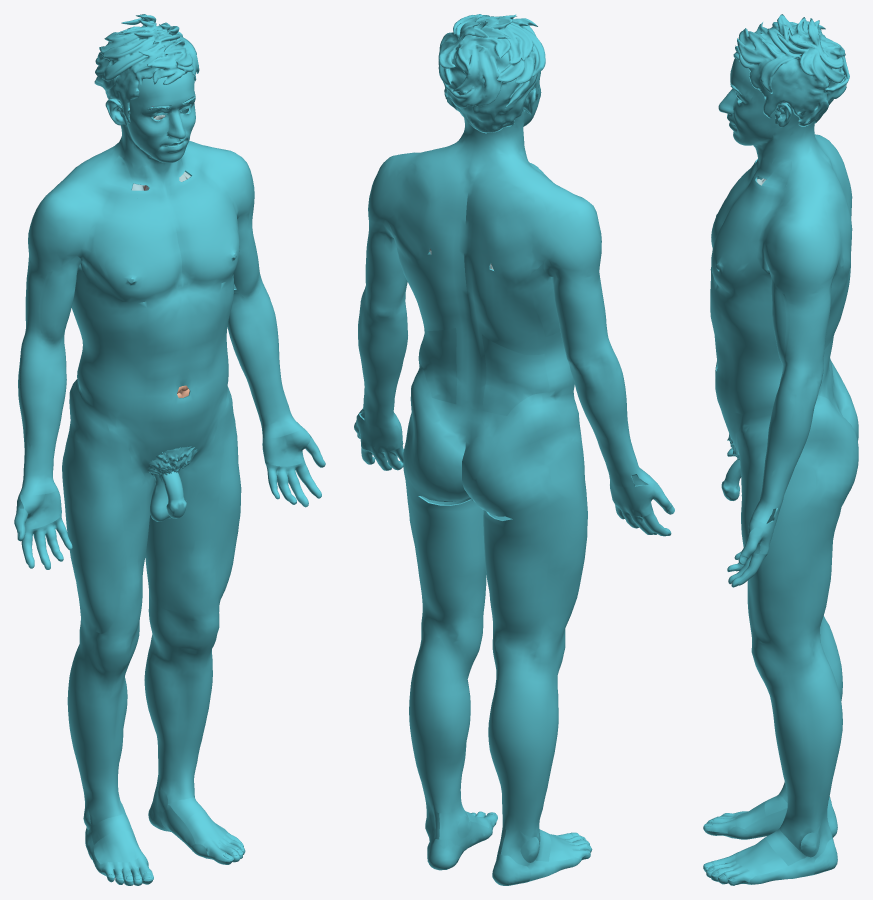
Rendered from z-anatomy-full-body.glb.
3 renders of one model, left to right at view 1: azimuth 30°, elevation 25°; view 2: azimuth 150°, elevation 25°; view 3: azimuth 270°, elevation 25°, orthographic. The views are drawn at different scales.
Parts seen in each view (by area): view 1: body-shell__Anterior region of thigh.r, body-shell__Anterior region of thigh.l, body-shell__Hairs of head, body-shell__Anterior region of leg.l, body-shell__Anterior region of leg.r, body-shell__Pectoral region.r, body-shell__Deltoid region.r, body-shell__Anterior region of forearm.l, body-shell__Anterior region of forearm.r, body-shell__Lateral region of thorax.r, body-shell__Lateral region of abdomen.r, body-shell__Pectoral region.l (+46 smaller); view 2: body-shell__Posterior region of thigh.r, body-shell__Hairs of head, body-shell__Gluteal region.r, body-shell__Posterior region of thigh.l, body-shell__Posterior region of leg.r, body-shell__Posterior region of leg.l, body-shell__Gluteal region.l, body-shell__Scapular region.r, body-shell__Posterior region of arm.r, body-shell__Infrascapular region.r, body-shell__Scapular region.l, body-shell__Posterior region of forearm.r (+32 smaller); view 3: body-shell__Hairs of head, body-shell__Anterior region of thigh.l, body-shell__Posterior region of thigh.l, body-shell__Deltoid region.l, body-shell__Gluteal region.l, body-shell__Posterior region of leg.l, body-shell__Lateral region of thorax.l, body-shell__Anterior region of leg.l, body-shell__Lateral region of abdomen.l, body-shell__Pectoral region.l, body-shell__Posterior region of arm.l, body-shell__Posterior region of neck.l (+45 smaller).
Part boxes in pixels (<box>): body-shell__Anterior region of thigh.r: <box>69,382,154,636</box>; body-shell__Anterior region of thigh.l: <box>150,383,241,615</box>; body-shell__Hairs of head: <box>94,14,199,123</box>; body-shell__Anterior region of leg.l: <box>153,654,212,780</box>; body-shell__Anterior region of leg.r: <box>74,674,127,799</box>; body-shell__Pectoral region.r: <box>94,205,174,302</box>; body-shell__Deltoid region.r: <box>28,174,90,271</box>; body-shell__Anterior region of forearm.l: <box>228,304,292,425</box>; body-shell__Anterior region of forearm.r: <box>22,360,66,481</box>; body-shell__Lateral region of thorax.r: <box>71,225,147,333</box>; body-shell__Lateral region of abdomen.r: <box>77,342,147,422</box>; body-shell__Pectoral region.l: <box>183,179,238,284</box>; body-shell__Posterior region of thigh.r: <box>483,496,579,640</box>; body-shell__Hairs of head: <box>438,14,545,133</box>; body-shell__Gluteal region.r: <box>462,392,567,518</box>; body-shell__Posterior region of thigh.l: <box>404,472,485,624</box>; body-shell__Posterior region of leg.r: <box>488,688,555,830</box>; body-shell__Posterior region of leg.l: <box>409,667,468,813</box>; body-shell__Gluteal region.l: <box>403,360,470,501</box>; body-shell__Scapular region.r: <box>486,191,559,287</box>; body-shell__Posterior region of arm.r: <box>543,242,606,348</box>; body-shell__Infrascapular region.r: <box>475,273,545,354</box>; body-shell__Scapular region.l: <box>379,164,436,266</box>; body-shell__Posterior region of forearm.r: <box>570,368,640,475</box>; body-shell__Hairs of head: <box>733,14,849,126</box>; body-shell__Anterior region of thigh.l: <box>738,407,787,646</box>; body-shell__Posterior region of thigh.l: <box>783,506,841,645</box>; body-shell__Deltoid region.l: <box>763,197,834,297</box>; body-shell__Gluteal region.l: <box>798,395,858,509</box>; body-shell__Posterior region of leg.l: <box>798,679,842,822</box>; body-shell__Lateral region of thorax.l: <box>715,229,846,343</box>; body-shell__Anterior region of leg.l: <box>770,696,806,822</box>; body-shell__Lateral region of abdomen.l: <box>723,347,782,414</box>; body-shell__Pectoral region.l: <box>711,197,769,291</box>; body-shell__Posterior region of arm.l: <box>799,248,839,364</box>; body-shell__Posterior region of neck.l: <box>784,120,834,199</box>.
Bounding box in the file's own units: 0.6801 × 1.74 × 0.294.
